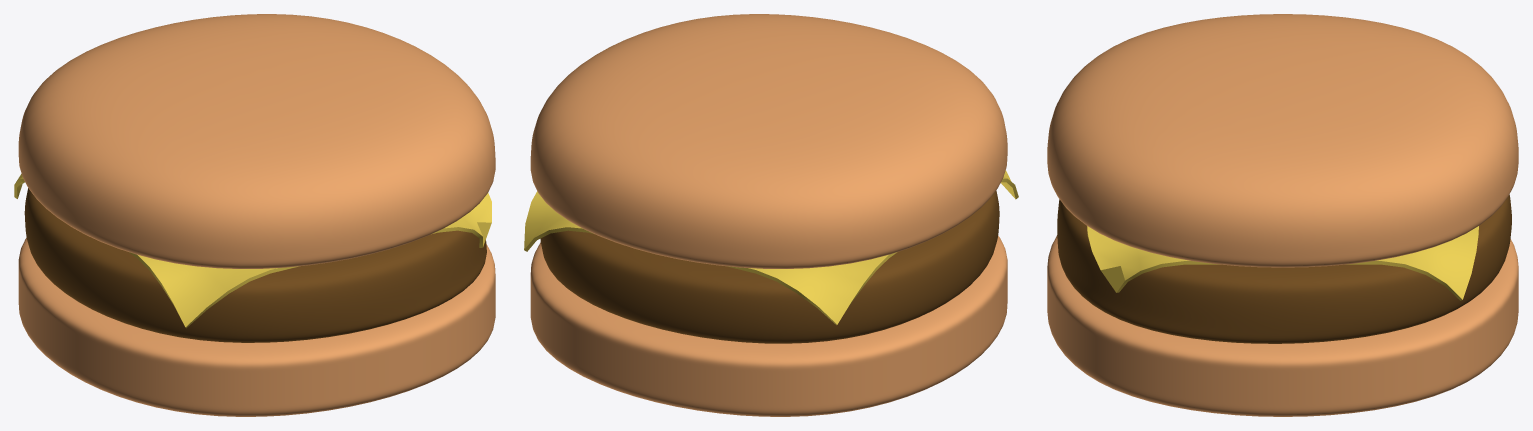
Rendered from hamburger.glb.
3 renders of one model, left to right at view 1: azimuth 30°, elevation 25°; view 2: azimuth 150°, elevation 25°; view 3: azimuth 270°, elevation 25°, orthographic.
Visible parts, largest first — view 1: Cube.002, Cube, Cube.001, Plane; view 2: Cube.002, Cube, Cube.001, Plane; view 3: Cube.002, Cube, Cube.001, Plane.
Part boxes in pixels (<box>): Cube.002: <box>18,14,495,268</box>; Cube: <box>18,237,495,416</box>; Cube.001: <box>24,188,486,342</box>; Plane: <box>14,174,491,328</box>; Cube.002: <box>530,14,1007,268</box>; Cube: <box>530,236,1007,416</box>; Cube.001: <box>540,190,999,343</box>; Plane: <box>524,170,1018,325</box>; Cube.002: <box>1047,14,1518,267</box>; Cube: <box>1047,235,1518,416</box>; Cube.001: <box>1057,194,1511,343</box>; Plane: <box>1087,226,1478,300</box>.
Bounding box in the file's own units: 9.34 × 5.49 × 9.34.
